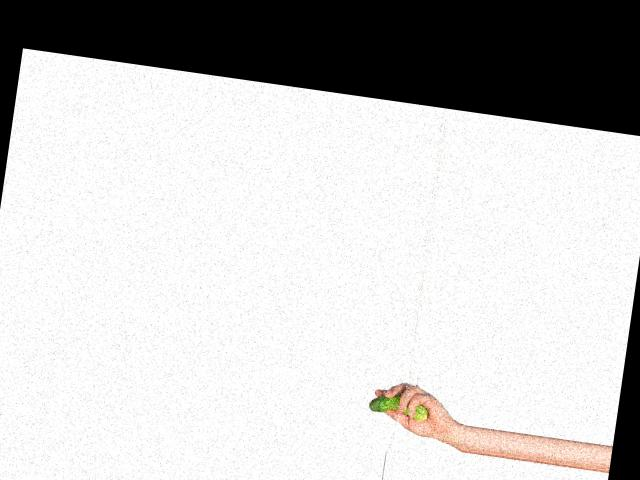cucumber: (368, 391, 430, 421)
